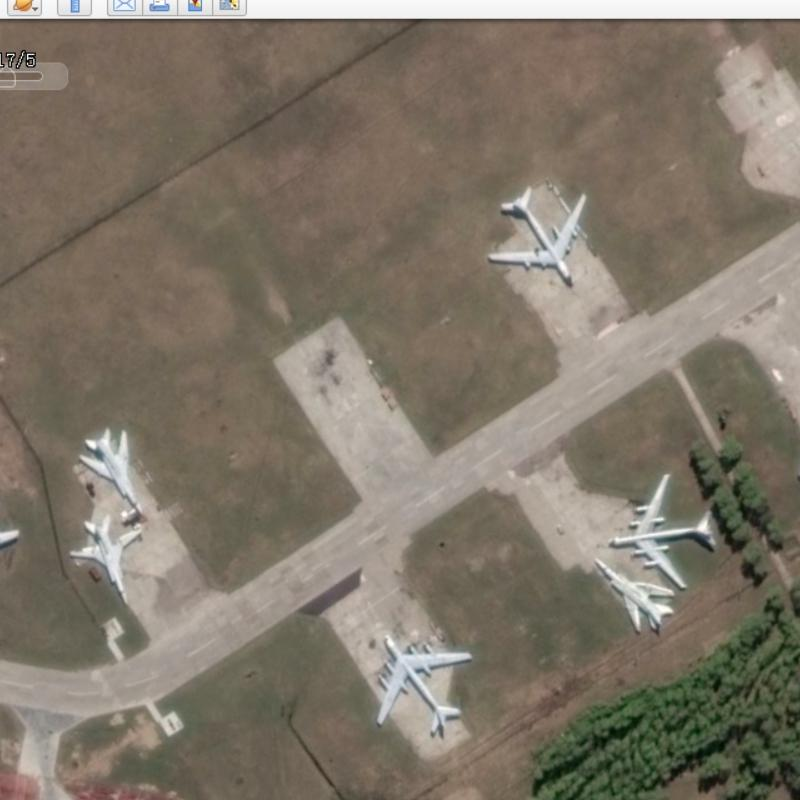A12: (66, 511, 143, 604), (592, 555, 676, 634), (76, 424, 145, 516)
A17: (604, 471, 718, 590), (373, 632, 474, 735), (484, 183, 588, 281)
